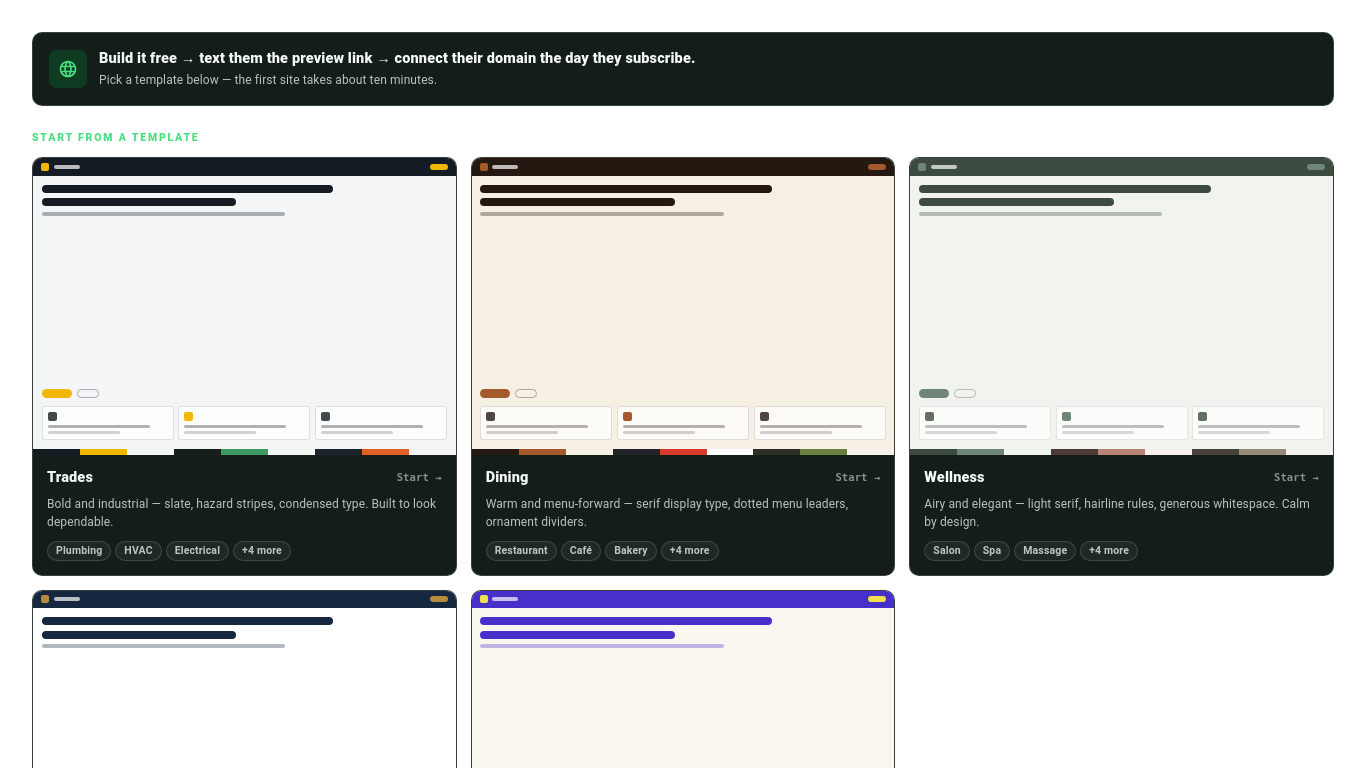
Test: the New Site dialog offers custom builds under their own heading
What coordinates should you click on to do the following:
click the text "Trades"
I would click on:
 (70, 478)
Its box is [47,467,93,489].
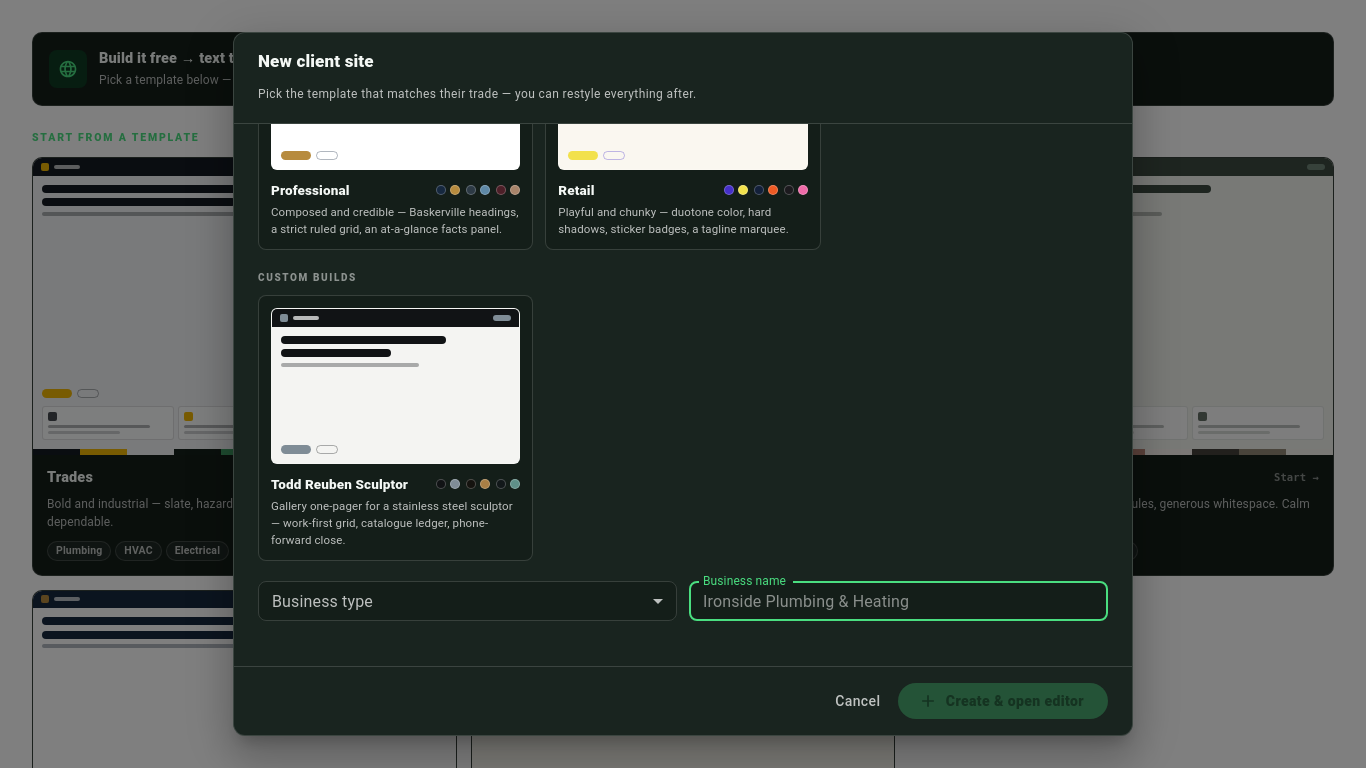
Expected: the text "New client site" is shown, [258,51,374,71]
Expected: the text "Custom builds" is shown, [258,270,357,285]
Expected: the text "Todd Reuben Sculptor" is shown, [271,474,408,494]
